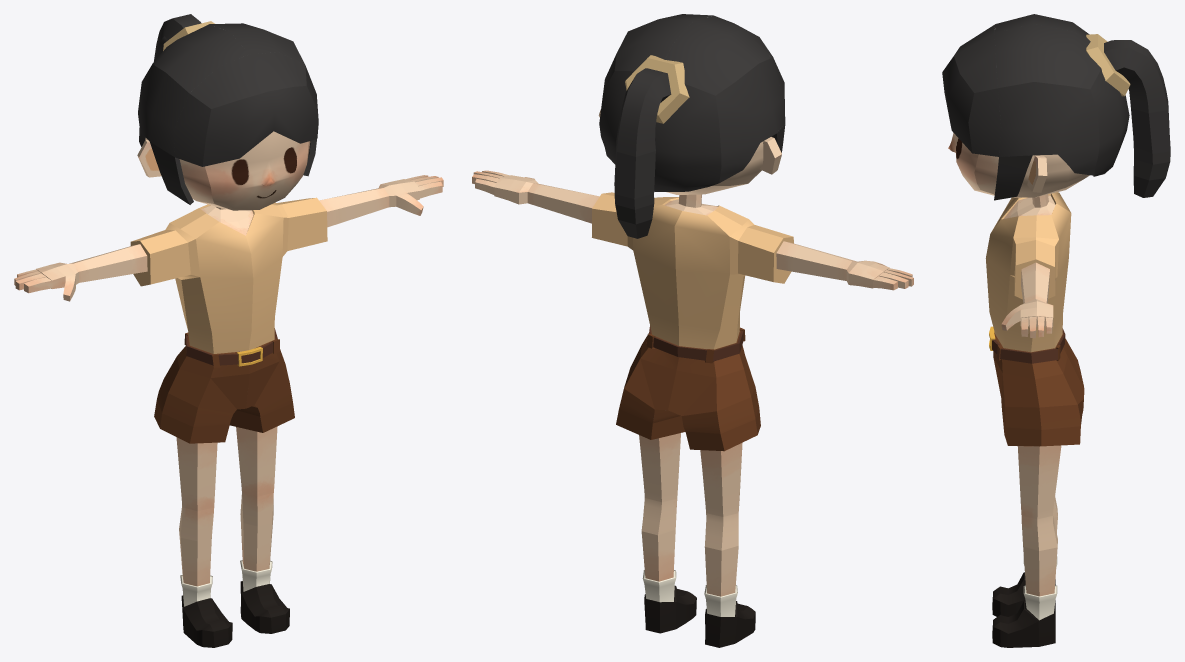
File: NPC2_G_Texture.obj
3 renders of one model, left to right at view 1: azimuth 30°, elevation 25°; view 2: azimuth 150°, elevation 25°; view 3: azimuth 270°, elevation 25°, orthographic. The views are drawn at different scales.
Visible parts, largest first — view 1: Body_standardSurface11SG, Head_uv_standardSurface10SG_1, Head_uv_standardSurface10SG, Head_uv_standardSurface10SG_2; view 2: Body_standardSurface11SG, Head_uv_standardSurface10SG_1, Head_uv_standardSurface10SG_2, Head_uv_standardSurface10SG_3, Head_uv_standardSurface10SG; view 3: Body_standardSurface11SG, Head_uv_standardSurface10SG_1, Head_uv_standardSurface10SG_2, Head_uv_standardSurface10SG, Head_uv_standardSurface10SG_3, ears_standardSurface10SG.
Boxes of the visible parts, x1,y1,x2,y2 form: Body_standardSurface11SG: [14, 175, 443, 647]; Head_uv_standardSurface10SG_1: [138, 23, 318, 204]; Head_uv_standardSurface10SG: [145, 131, 310, 210]; Head_uv_standardSurface10SG_2: [154, 14, 201, 61]; Body_standardSurface11SG: [472, 170, 913, 647]; Head_uv_standardSurface10SG_1: [599, 14, 785, 191]; Head_uv_standardSurface10SG_2: [614, 68, 671, 238]; Head_uv_standardSurface10SG_3: [625, 55, 689, 123]; Head_uv_standardSurface10SG: [666, 141, 763, 194]; Body_standardSurface11SG: [985, 192, 1084, 647]; Head_uv_standardSurface10SG_1: [942, 14, 1129, 200]; Head_uv_standardSurface10SG_2: [1104, 40, 1170, 197]; Head_uv_standardSurface10SG: [948, 133, 1089, 197]; Head_uv_standardSurface10SG_3: [1086, 34, 1130, 96]; ears_standardSurface10SG: [1027, 156, 1047, 192].
Size of the model in its own units: 15.43 by 20.53 by 7.07.
Materials: 2 (2 with a texture image).
